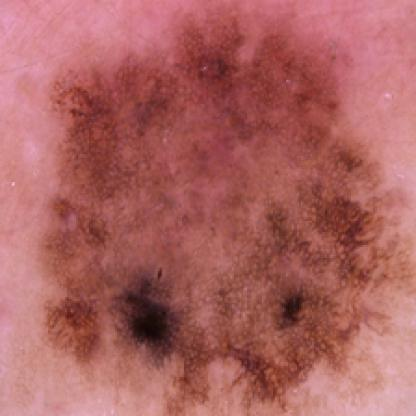benign: (41, 37, 394, 388)
